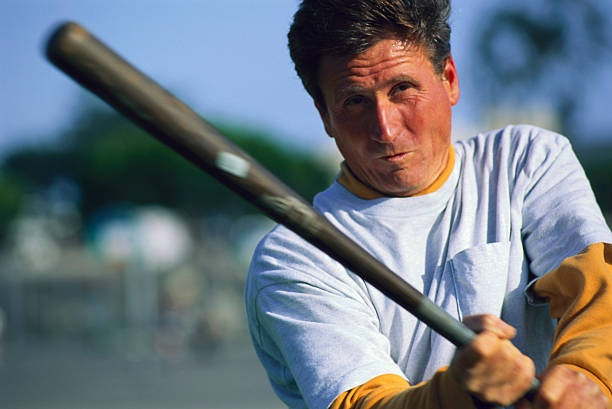bita: (48, 27, 525, 383)
